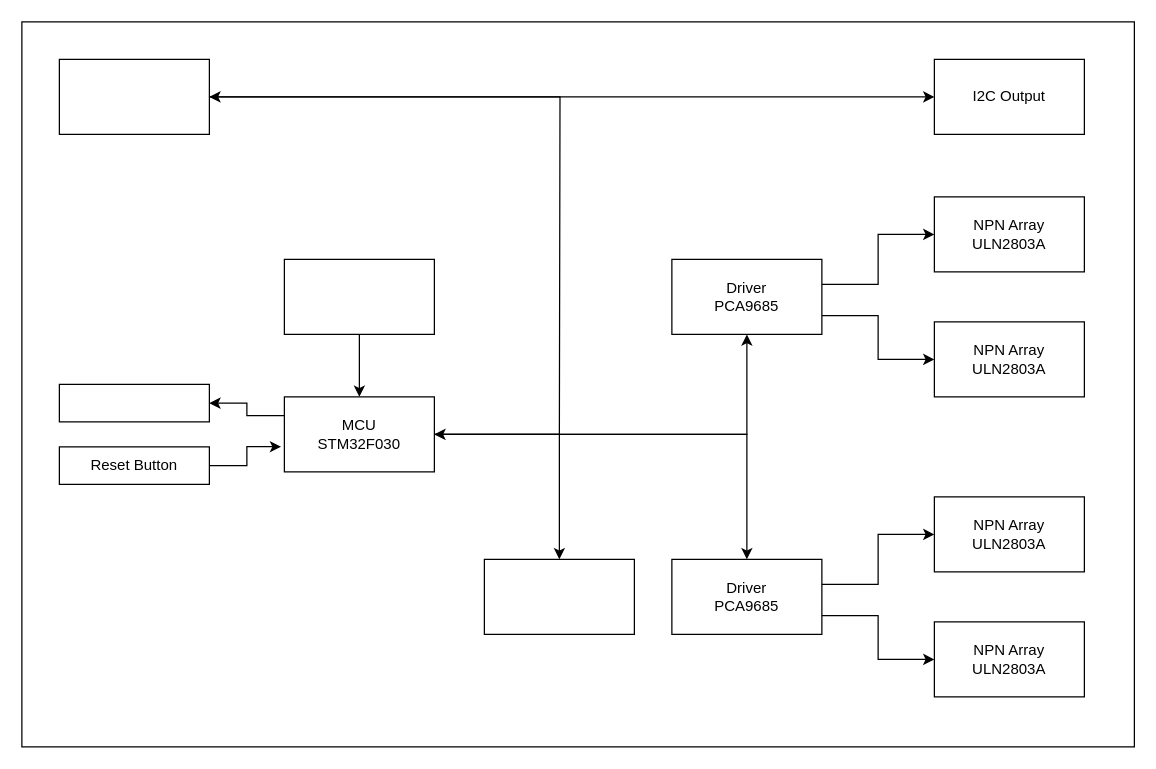
This 1156x769 diagram has some shape labels left out. Here are the shapes that lost their labels. From the top down, the box of each, then its label:
(58, 58, 209, 134): I2C Input
(283, 258, 434, 334): Programming Interface SWD
(58, 383, 209, 422): Heartbeat Led
(483, 558, 634, 634): RTC DS3231
